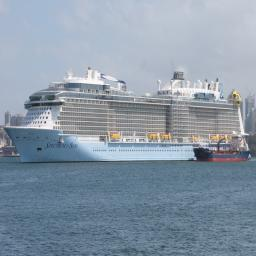cruises: (5, 66, 250, 166)
